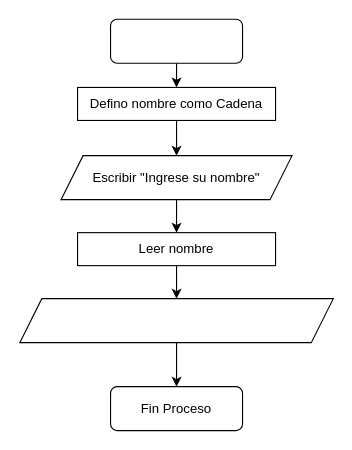
The diagram is 352 pixels wide and 450 high, and some of its shapes have lost their labels. Here are the shapes that lost their labels. From the top down, the box of each, then its label:
(109, 18, 243, 63): Proceso Bienvenida
(19, 298, 333, 343): Escribir "Hola " + nombre + ", cómo estás?"
